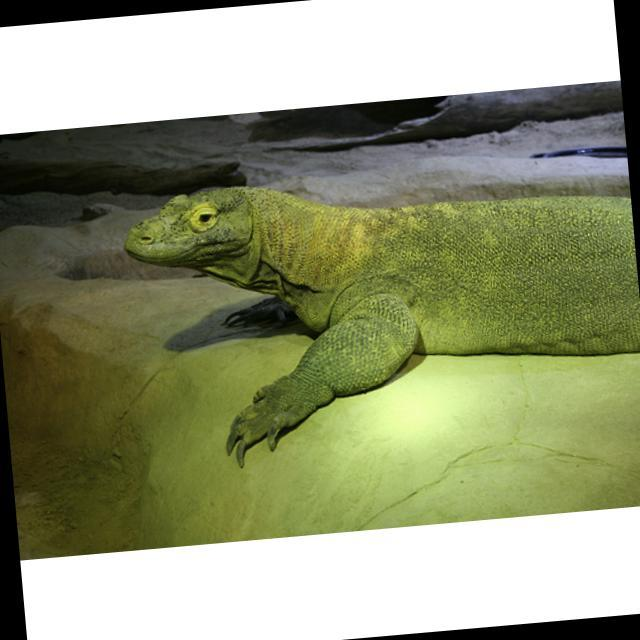KomodoDragon: (116, 150, 640, 475)
